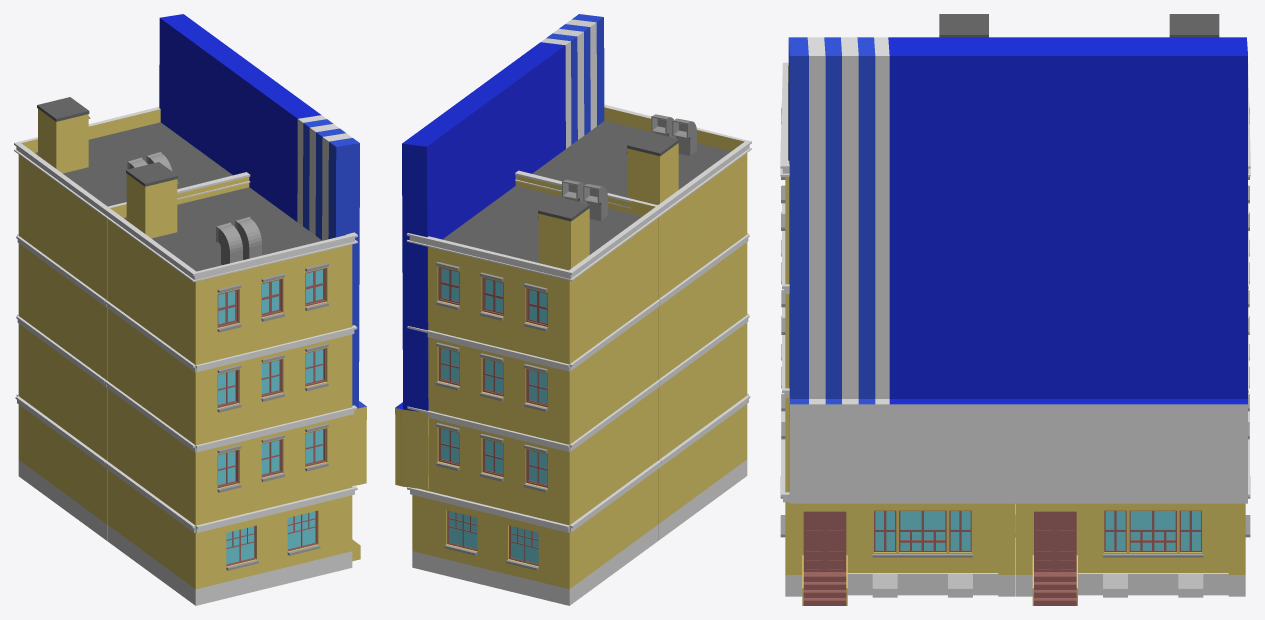
Rendered from BANK Bca.fbx.
The picture shows the model from 3 angles, left to right: view 1: azimuth 30°, elevation 25°; view 2: azimuth 150°, elevation 25°; view 3: azimuth 270°, elevation 25°; orthographic projection. The views are drawn at different scales.
Visible parts, largest first — view 1: Cube.004, Cube.001, Cube.003, Cube, Cube.006, Cube.007; view 2: Cube.004, Cube.006, Cube.003, Cube.007, Cube.001, Cube; view 3: Cube.004, Cube, Cube.007, Cube.001, Cube.002, Cube.005, Cube.003.
Part boxes in pixels (left/top/right/bottom): Cube.004: left=104, top=14, right=366, bottom=485; Cube.001: left=105, top=300, right=357, bottom=525; Cube.003: left=14, top=97, right=250, bottom=299; Cube: left=104, top=461, right=357, bottom=605; Cube.006: left=16, top=234, right=107, bottom=460; Cube.007: left=15, top=394, right=107, bottom=540; Cube.004: left=395, top=14, right=751, bottom=489; Cube.006: left=407, top=299, right=660, bottom=525; Cube.003: left=406, top=170, right=662, bottom=364; Cube.007: left=407, top=460, right=661, bottom=605; Cube.001: left=658, top=233, right=749, bottom=459; Cube: left=658, top=393, right=750, bottom=540; Cube.004: left=780, top=14, right=1247, bottom=503; Cube: left=780, top=393, right=1015, bottom=597; Cube.007: left=1015, top=393, right=1250, bottom=597; Cube.001: left=781, top=185, right=789, bottom=492; Cube.002: left=802, top=555, right=847, bottom=605; Cube.005: left=1032, top=555, right=1077, bottom=605; Cube.003: left=1169, top=14, right=1250, bottom=230.
Size of the model in its own units: 230 by 528 by 409.
